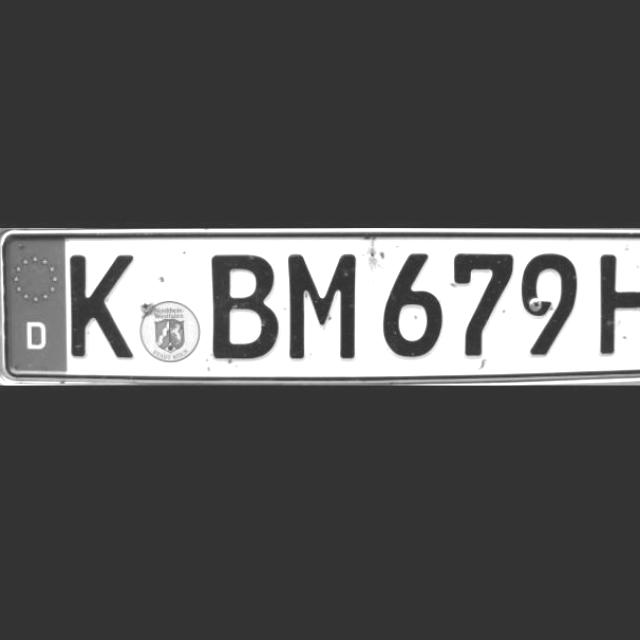licenseplate: (1, 233, 640, 377)
